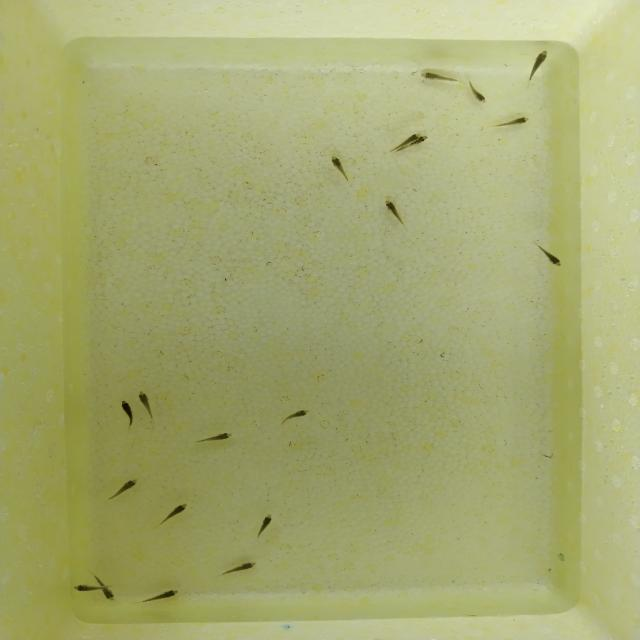fingerling: (328, 154, 359, 190), (378, 198, 407, 226), (147, 586, 189, 604), (526, 48, 552, 76), (114, 474, 146, 496), (416, 68, 454, 86), (164, 498, 190, 524), (254, 509, 276, 538), (138, 386, 154, 424), (281, 405, 312, 424), (218, 561, 259, 575), (501, 113, 534, 130), (120, 397, 137, 429), (197, 431, 239, 443), (469, 88, 492, 106), (96, 587, 122, 601), (72, 580, 95, 594), (543, 249, 560, 267), (402, 132, 420, 146)
